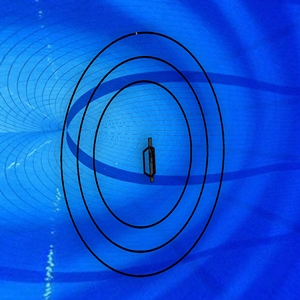circle: (59, 30, 228, 279)
submarine: (139, 136, 163, 184)
